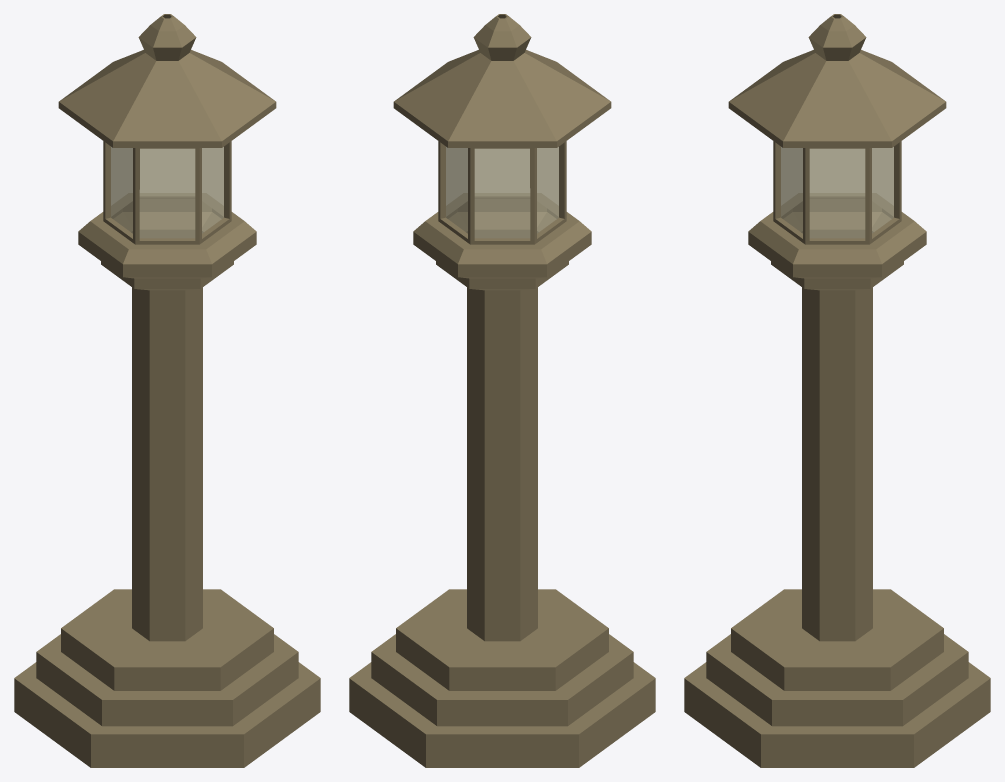
Rendered from lampPost.fbx.
3 renders of one model, left to right at view 1: azimuth 30°, elevation 25°; view 2: azimuth 150°, elevation 25°; view 3: azimuth 270°, elevation 25°, orthographic.
Parts seen in each view (by area): view 1: Cylinder.017; view 2: Cylinder.017; view 3: Cylinder.017.
Boxes of the visible parts, x1,y1,x2,y2 form: Cylinder.017: (14,14,320,767); Cylinder.017: (349,14,655,767); Cylinder.017: (684,14,990,767).
Bounding box in the file's own units: 264 × 229 × 660.
